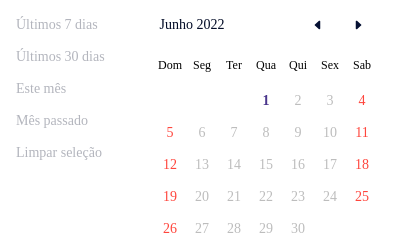
Scenario: <RangeCalendar /> › should select a range properly
Click the text "1": (266, 101) [250,85,282,117]
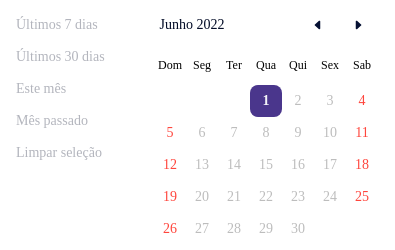
Click the text "15": (266, 165) [250,149,282,181]
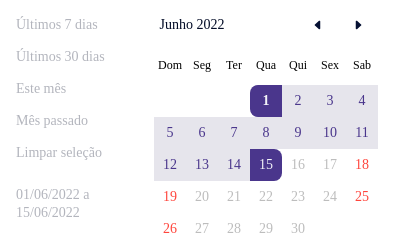
Now the text "01/06/2022 a 15/06/2022" is shown, box [16,187,90,220]
